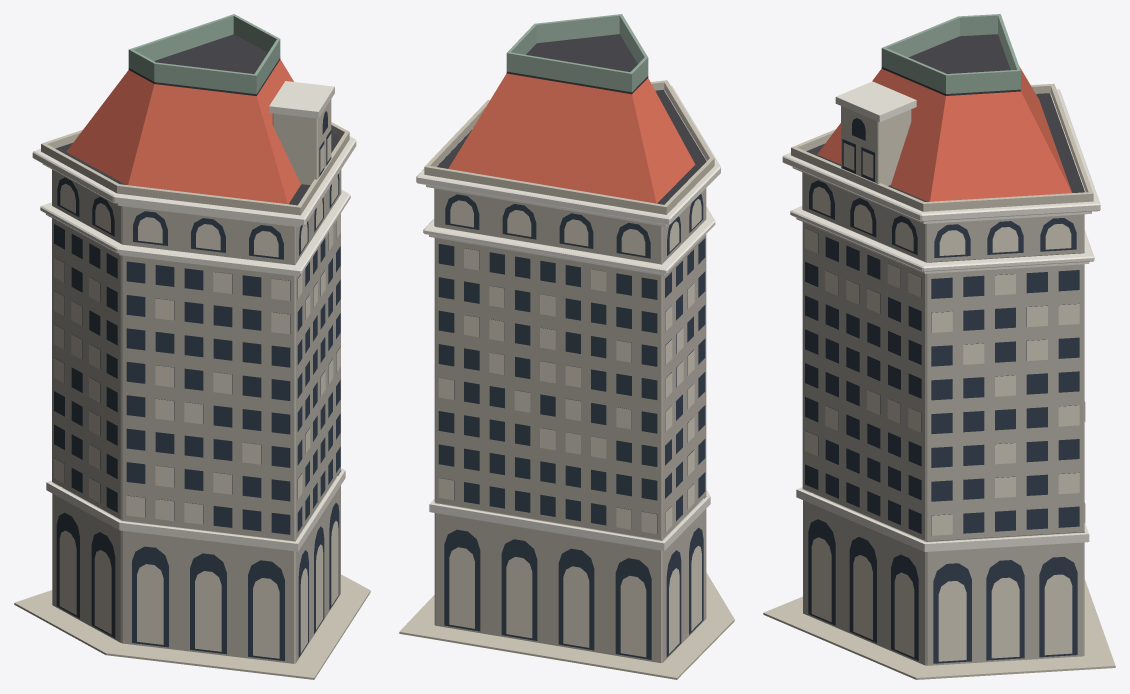
The model's file is 700-market-street.glb.
The picture shows the model from 3 angles, left to right: view 1: azimuth 30°, elevation 25°; view 2: azimuth 150°, elevation 25°; view 3: azimuth 270°, elevation 25°; orthographic projection.
Visible parts, largest first — view 1: 700-market-street_body, 700-market-street_night_glow; view 2: 700-market-street_body, 700-market-street_night_glow; view 3: 700-market-street_body, 700-market-street_night_glow.
Part boxes in pixels (box(x1,y1,x2,y2)): 700-market-street_body: box(14, 14, 370, 679); 700-market-street_night_glow: box(53, 133, 340, 658); 700-market-street_body: box(399, 14, 734, 679); 700-market-street_night_glow: box(438, 199, 701, 657); 700-market-street_body: box(763, 14, 1115, 679); 700-market-street_night_glow: box(804, 143, 1085, 661).
Bounding box in the file's own units: 30.25 × 57.9 × 32.6.
